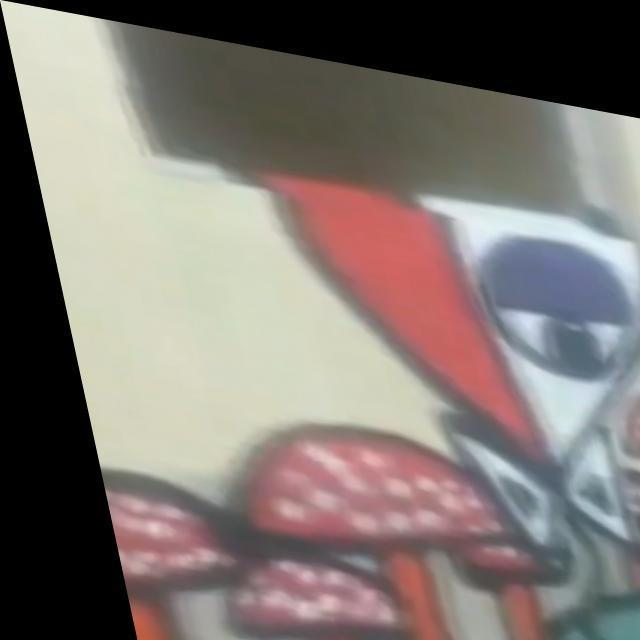-: (82, 12, 640, 555), (155, 381, 520, 640), (79, 465, 267, 640), (190, 531, 406, 640), (594, 347, 640, 560)
